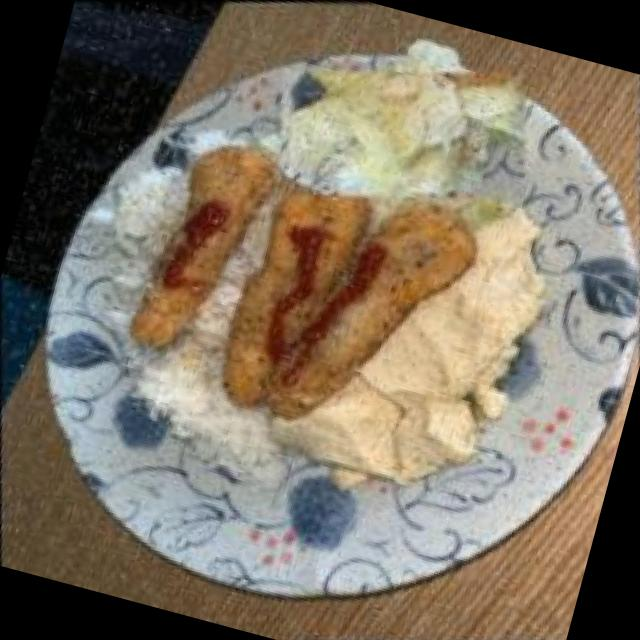chinese_cabbage: (249, 6, 562, 260)
rice: (99, 308, 311, 514)
